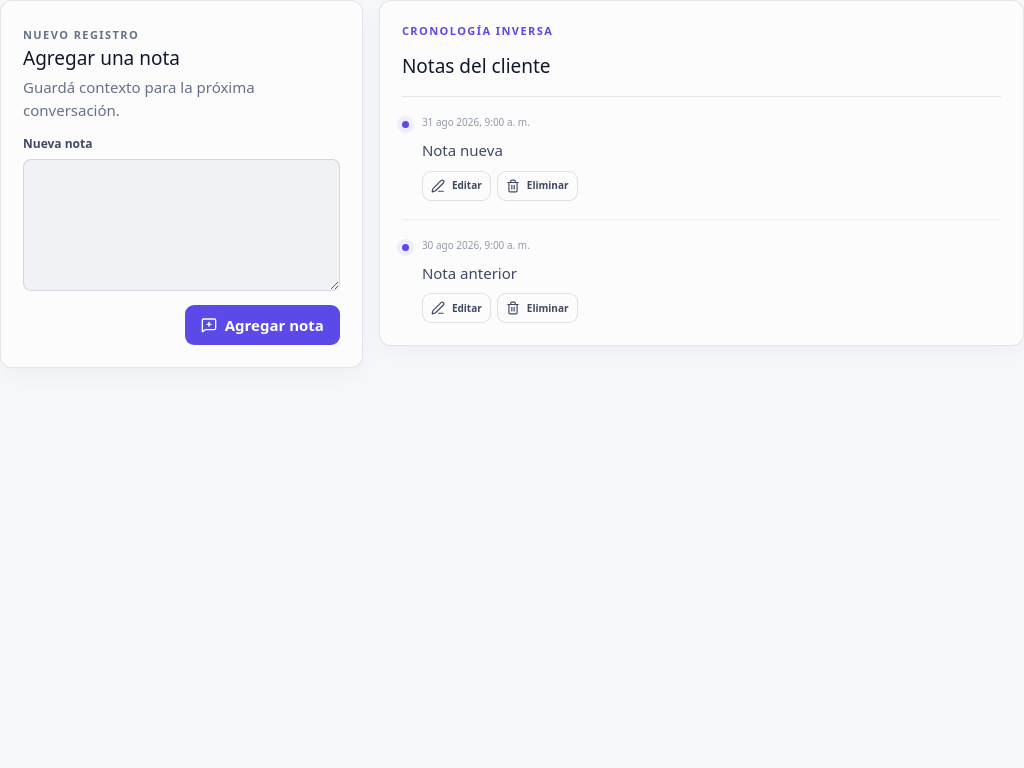
Test: NotesTimeline › edits inline and names the destructive confirmation with the note
This screenshot has width=1024, height=768.
Click the button with aria-label "Editar Nota nueva".
click(456, 186)  # box [422, 170, 491, 200]
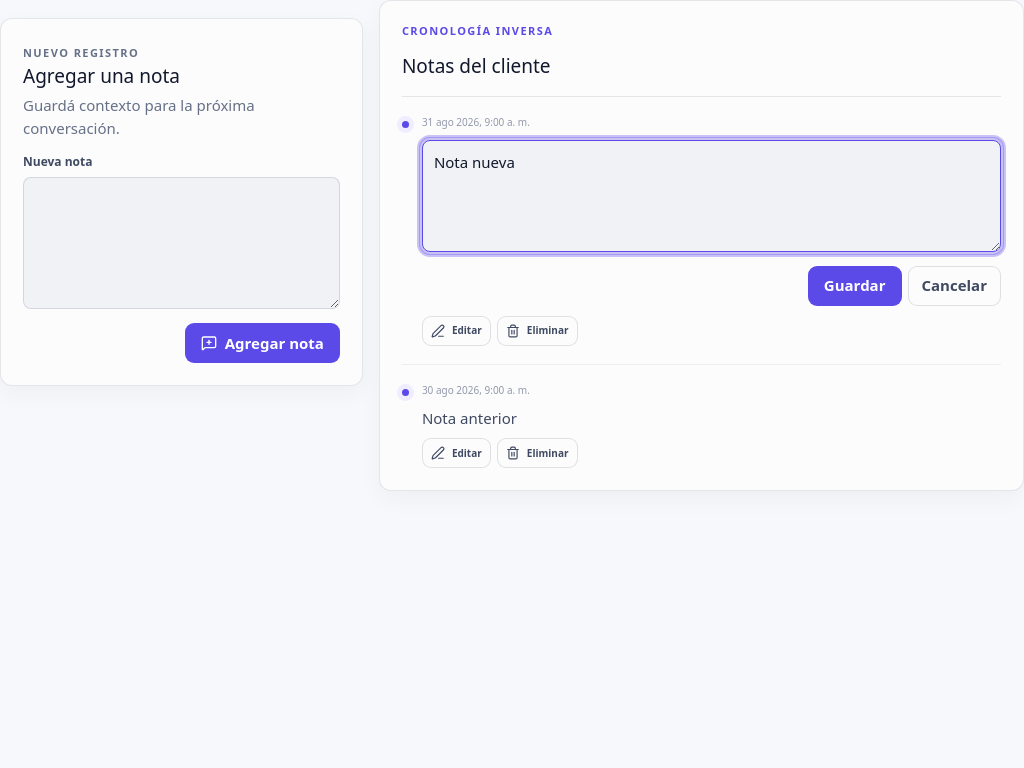
Result: the text box named "Editar nota Nota nueva" holds "Nota nueva" at [422, 140, 1001, 252]
Click the button with aria-label "Eliminar Nota anterior".
click(537, 453)  # box [497, 438, 578, 468]
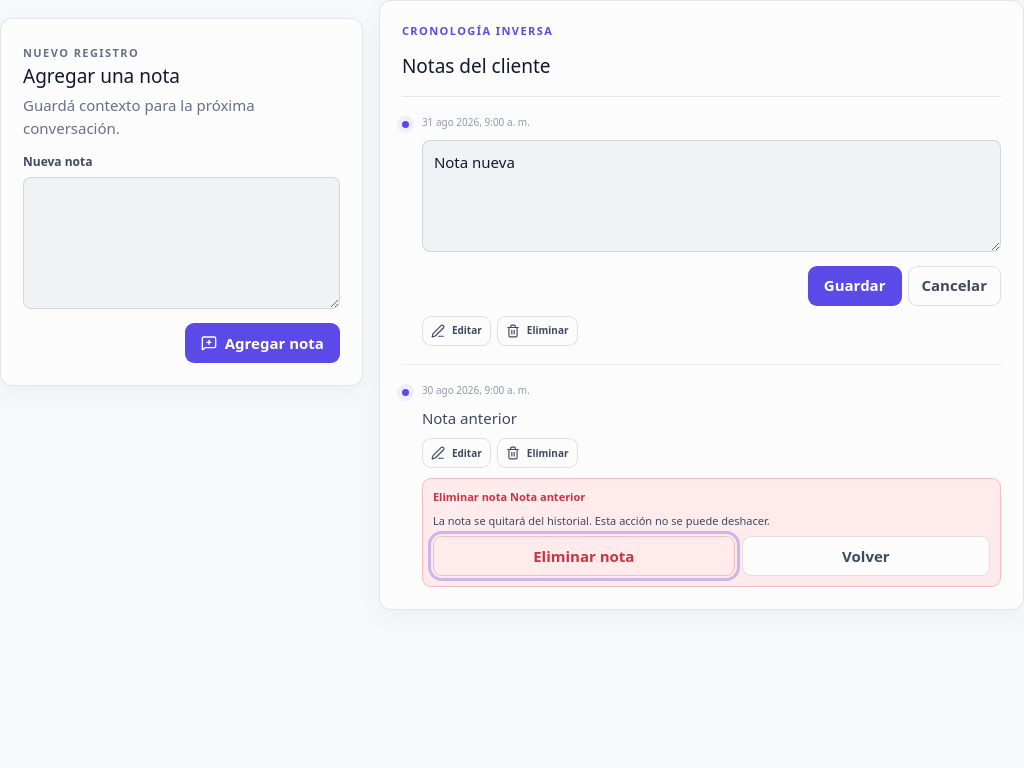
Result: the form "Eliminar nota Nota anterior" is shown at [422, 478, 1001, 587]
